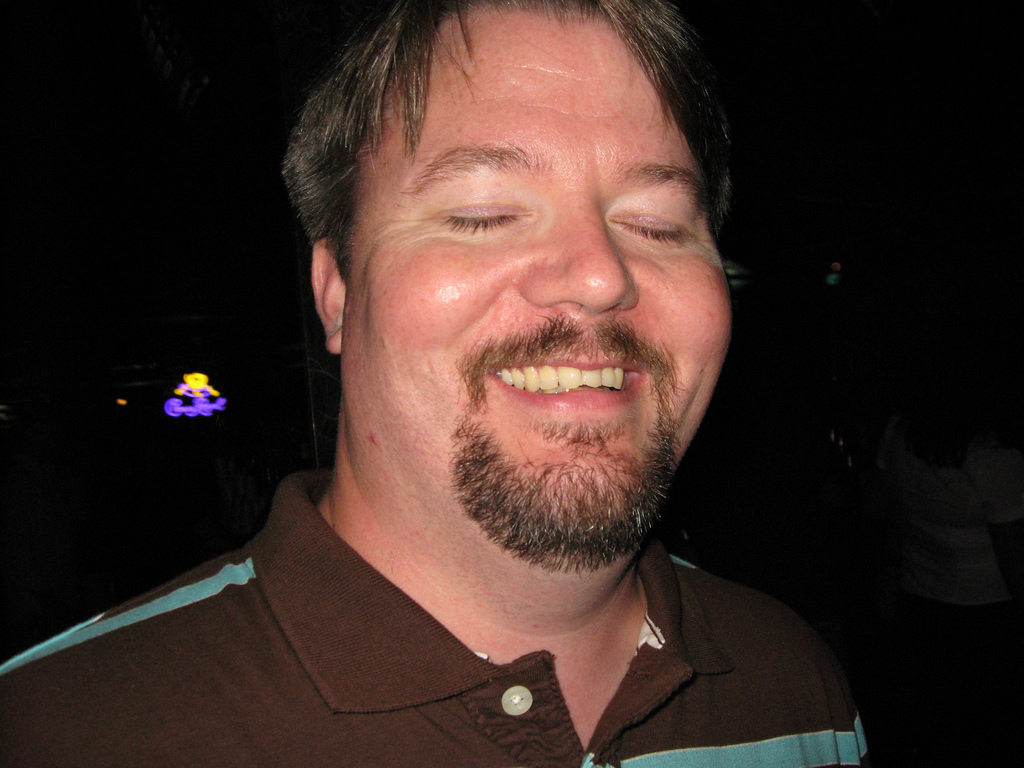Human-face: (346, 0, 735, 540)
